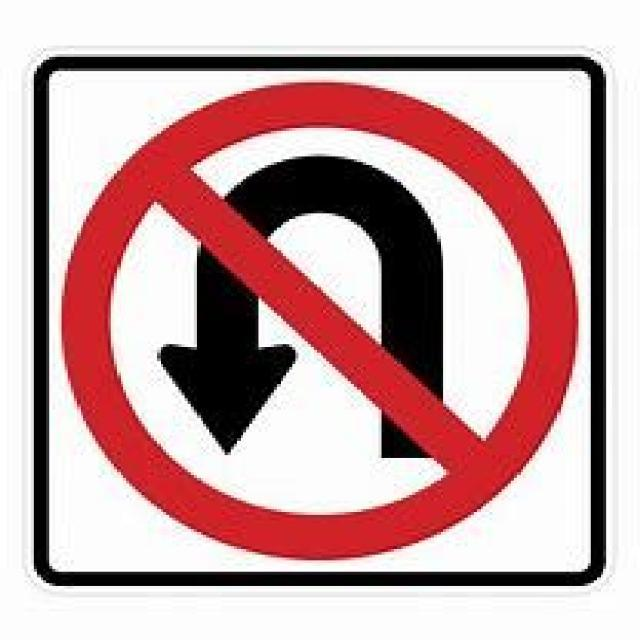u turn prohibited: (62, 80, 578, 557)
